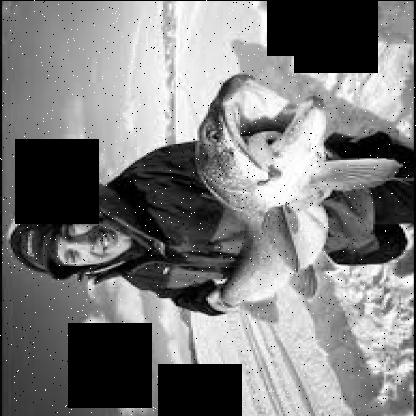fish: (188, 71, 400, 327)
